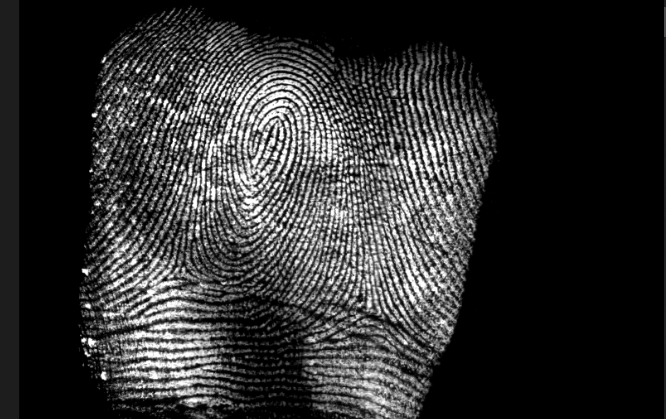deltas: (147, 233, 205, 302), (343, 280, 397, 337)
nucleo: (241, 106, 302, 175)
